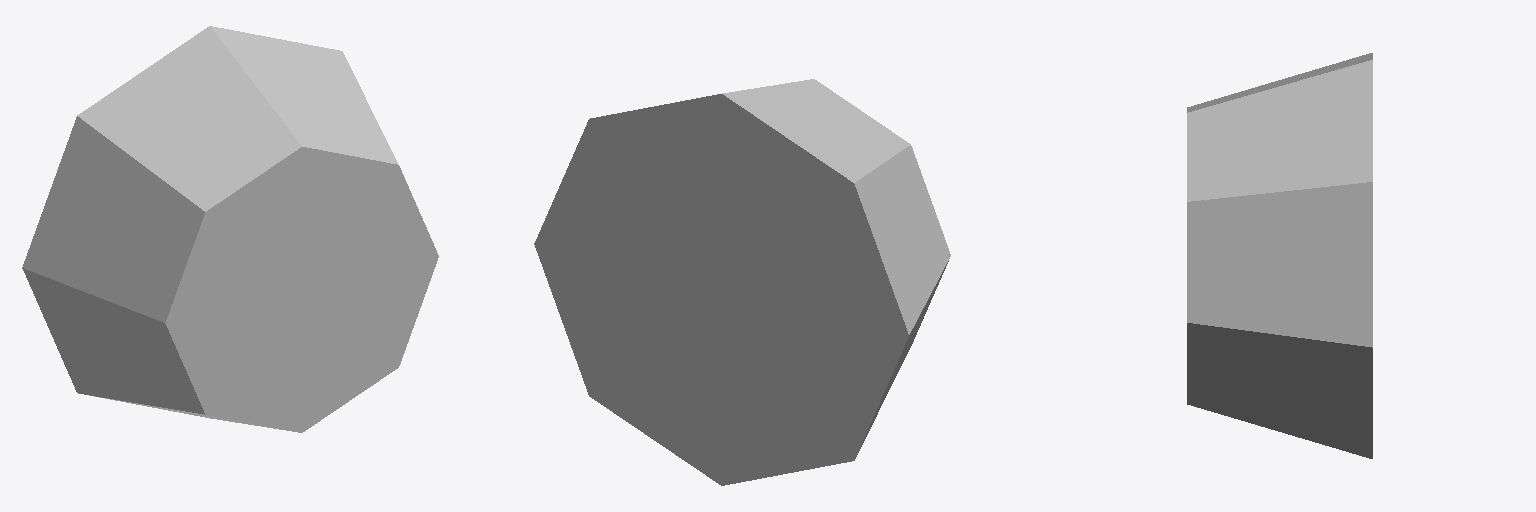
File: tavreli-6.obj
3 renders of one model, left to right at view 1: azimuth 30°, elevation 25°; view 2: azimuth 150°, elevation 25°; view 3: azimuth 270°, elevation 25°, orthographic.
Parts seen in each view (by area): view 1: Mesh1 Model; view 2: Mesh1 Model; view 3: Mesh1 Model.
Boxes of the visible parts, <box> form: Mesh1 Model: <box>22,26,438,432</box>; Mesh1 Model: <box>534,79,950,485</box>; Mesh1 Model: <box>1187,53,1372,458</box>.
Bounding box in the file's own units: 4.27 × 4.27 × 1.83.